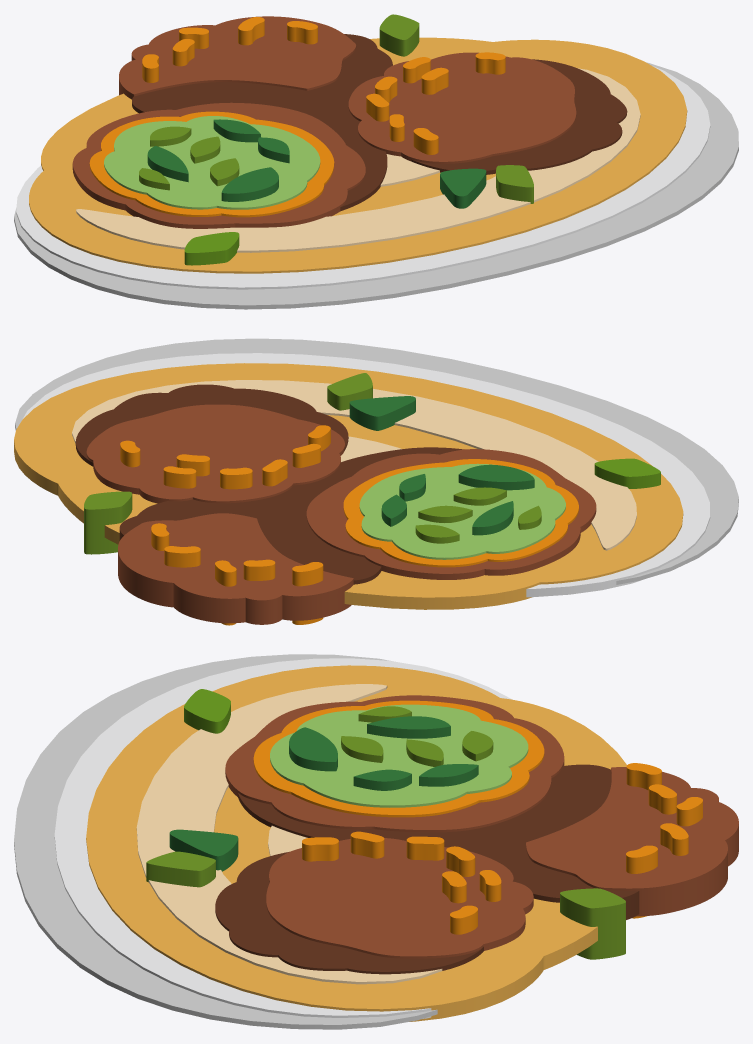
The model's file is emoji_u1f9c6.glb.
3 views of the same model, one above another, from view 1: azimuth 30°, elevation 25°; view 2: azimuth 150°, elevation 25°; view 3: azimuth 270°, elevation 25° (orthographic). The views are drawn at different scales.
Visible parts, largest first — view 1: emoji_u1f9c6; view 2: emoji_u1f9c6; view 3: emoji_u1f9c6.
Boxes of the visible parts, x1,y1,x2,y2 form: emoji_u1f9c6: (14,14,738,309); emoji_u1f9c6: (14,338,738,625); emoji_u1f9c6: (14,654,738,1029).
Size of the model in its own units: 0.034 by 0.0026 by 0.0281.
